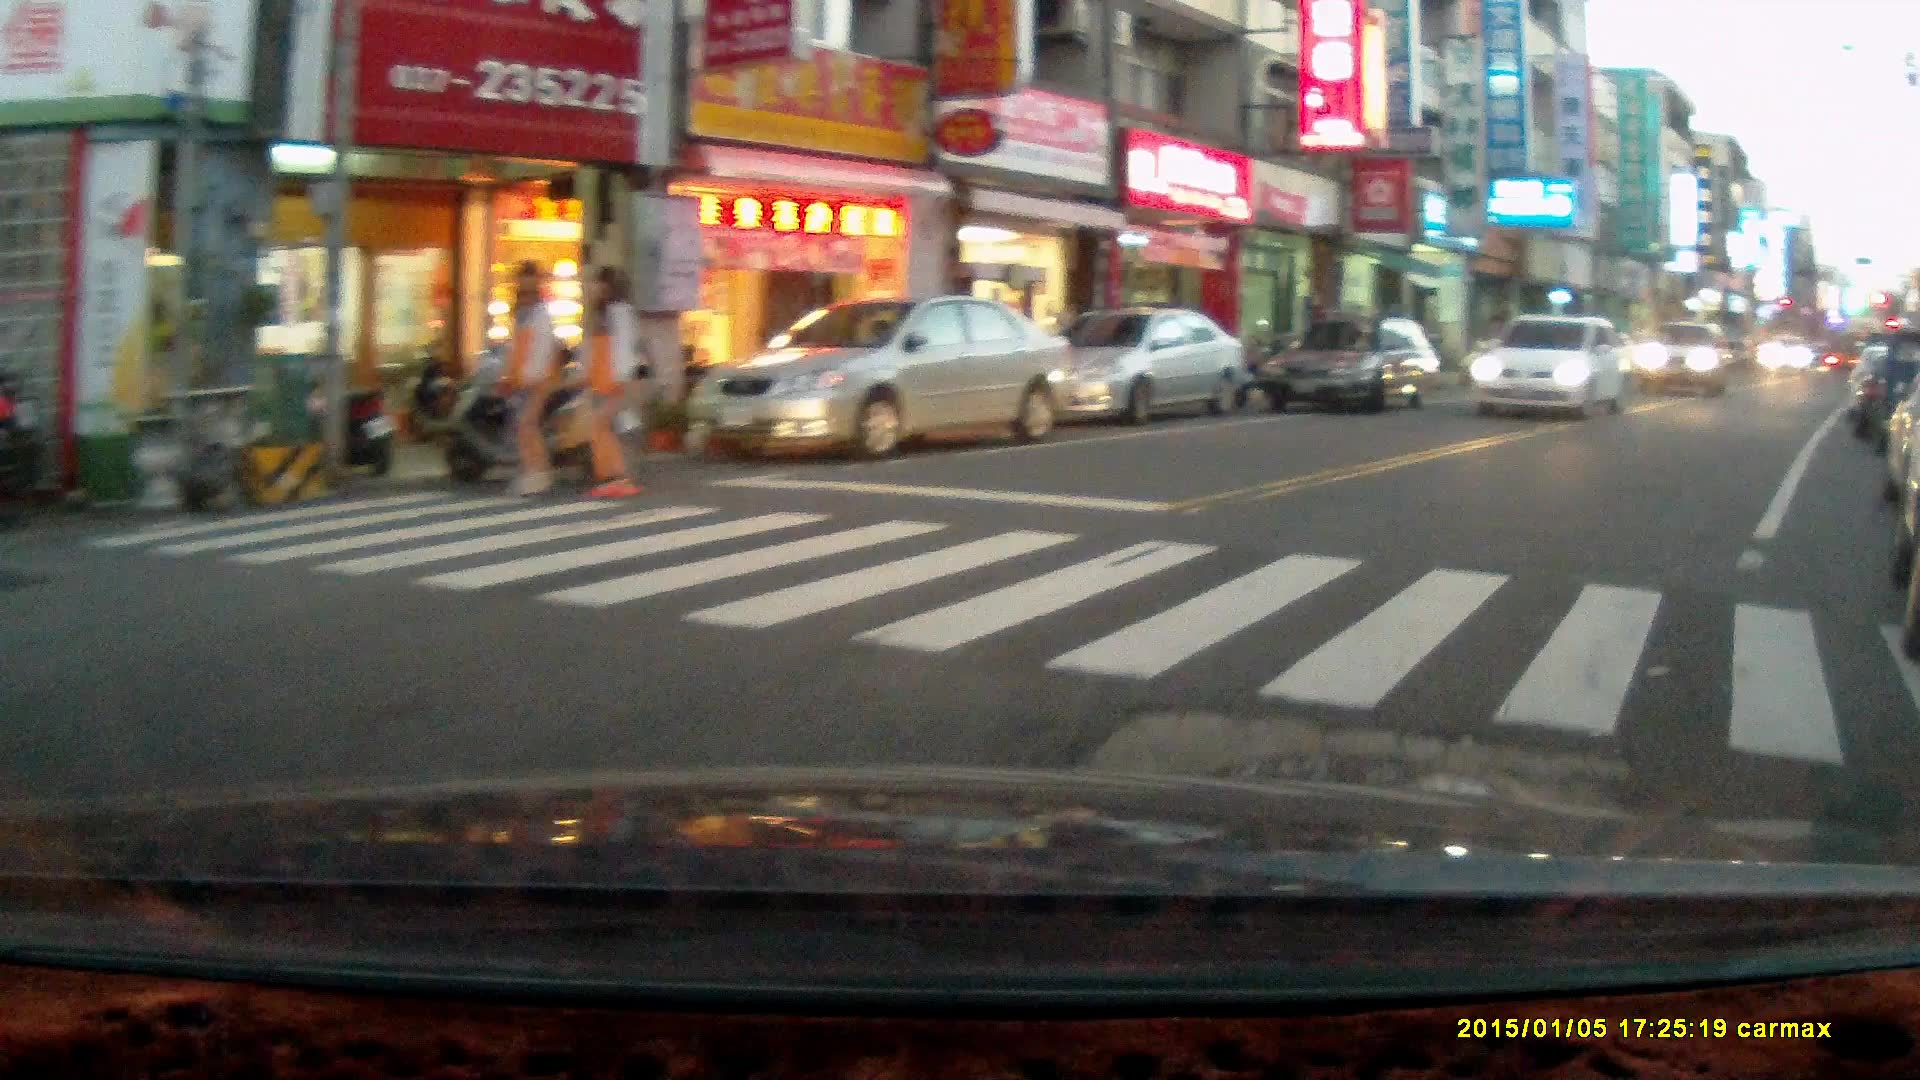pedestrian: (571, 262, 654, 503), (492, 259, 567, 494)
vehicle: (691, 297, 1073, 456), (1013, 309, 1249, 422), (1258, 318, 1445, 411), (1467, 314, 1630, 417), (1628, 319, 1739, 399), (1756, 333, 1817, 381)
